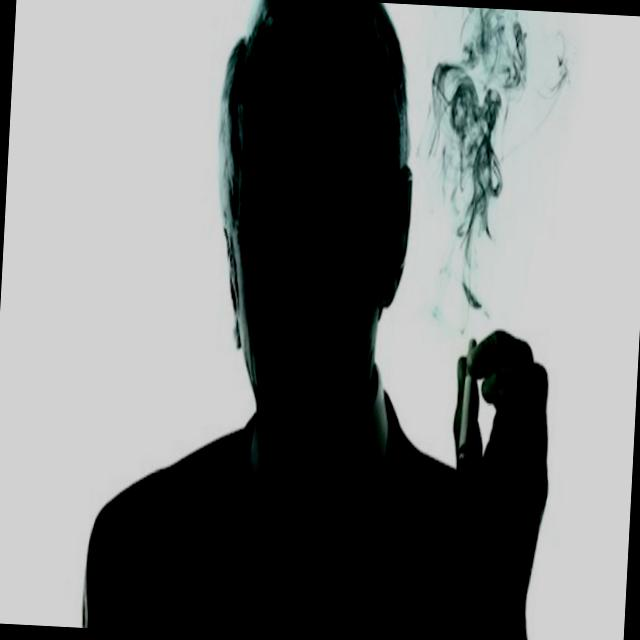cigarette: (452, 382, 477, 465)
